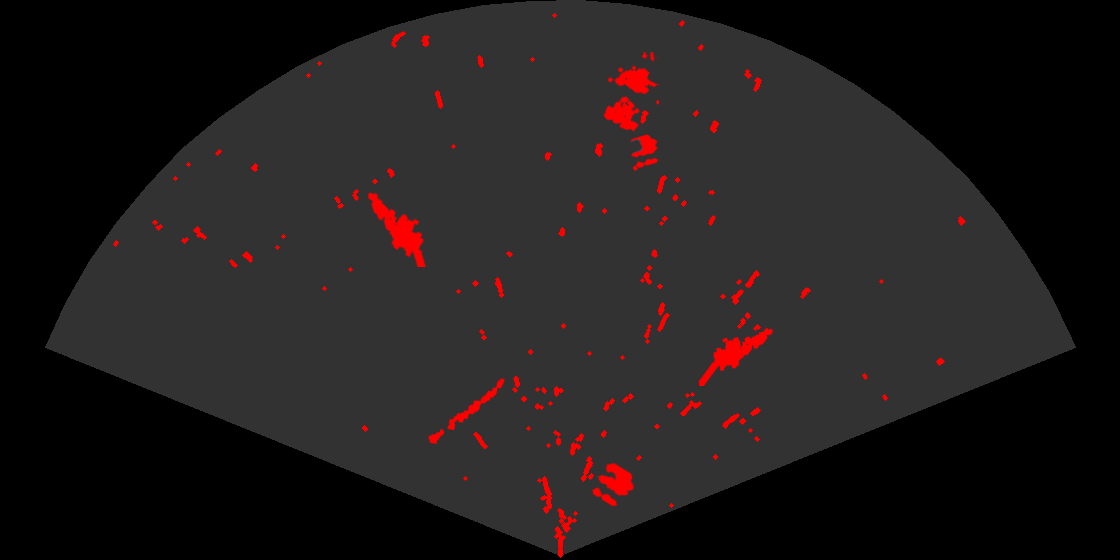ball: (590, 461, 636, 508), (629, 133, 660, 169)
cage: (602, 52, 659, 133)
chain: (427, 377, 506, 445)
frogman: (366, 191, 428, 267), (699, 326, 774, 386)
